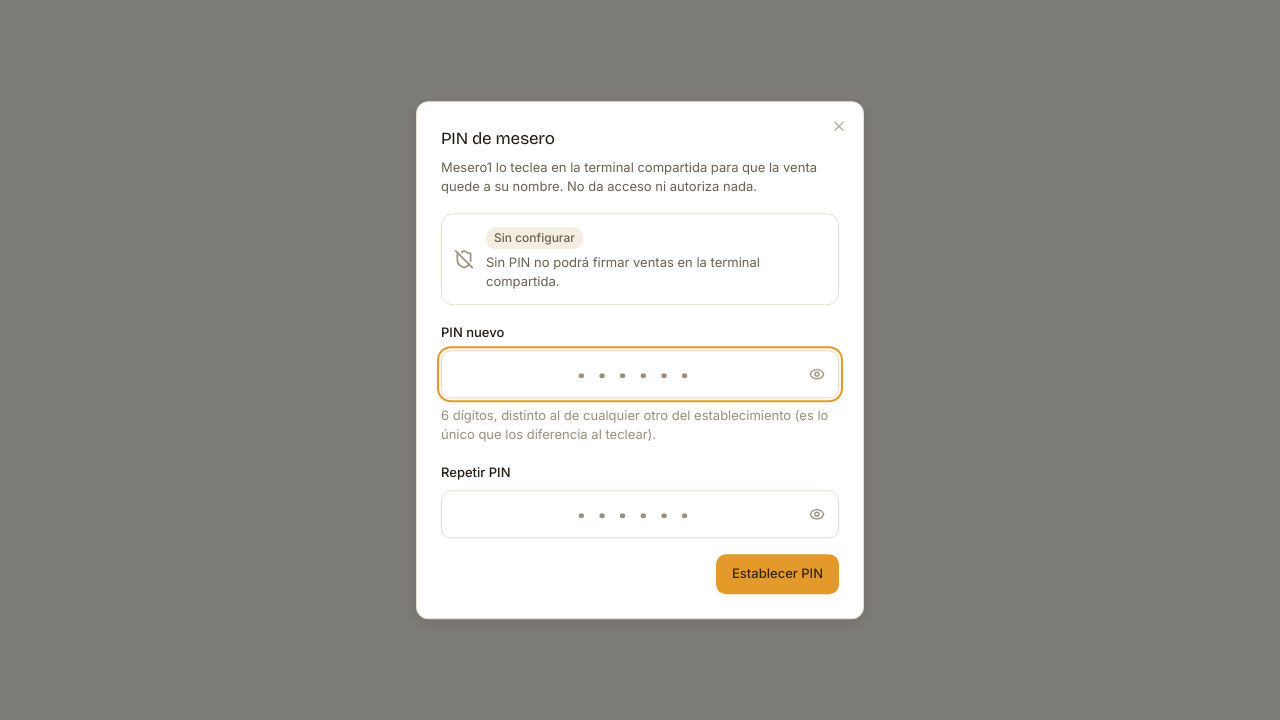
it: MeseroPinDialog › fija el PIN y limpia los campos
Expected: the text "Sin configurar" is shown, top-left (486, 227), bottom-right (583, 249)
Type "482913" into the password field labelled "PIN nuevo".
click(640, 374); type("482913")  # box top-left (441, 350), bottom-right (839, 398)
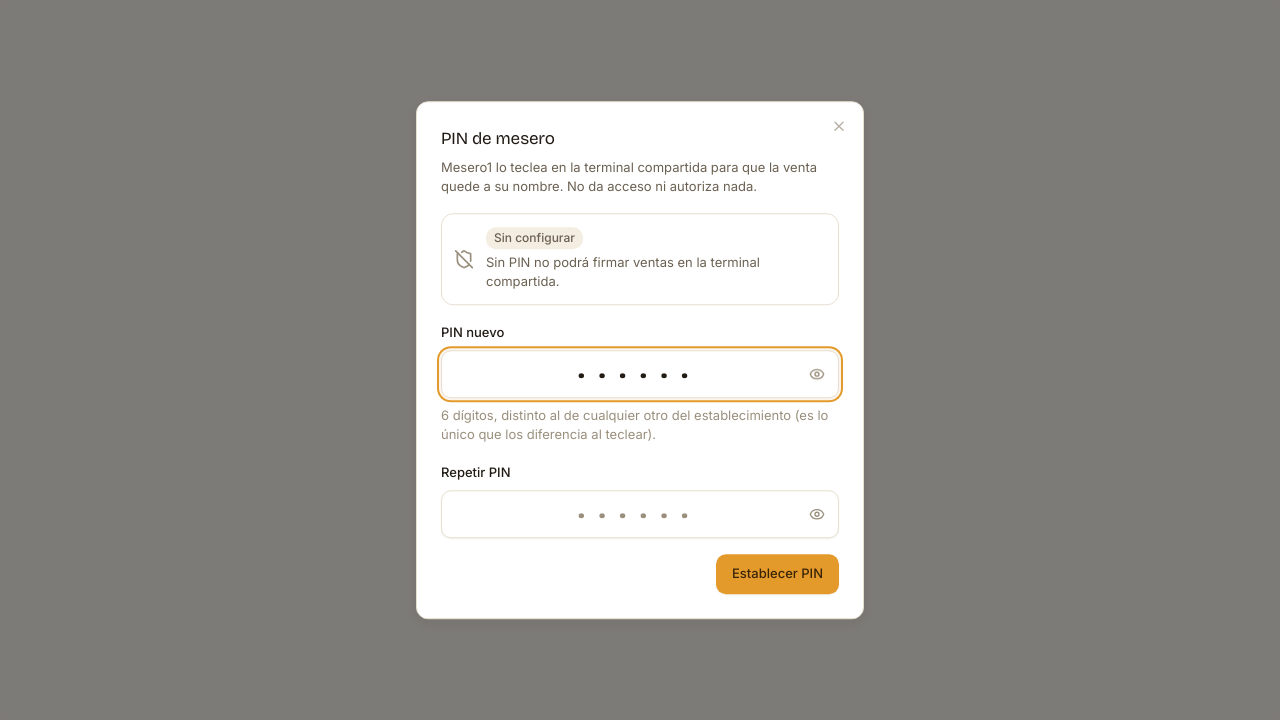
Type "482913" into the password field labelled "Repetir PIN".
click(640, 514); type("482913")  # box top-left (441, 490), bottom-right (839, 538)
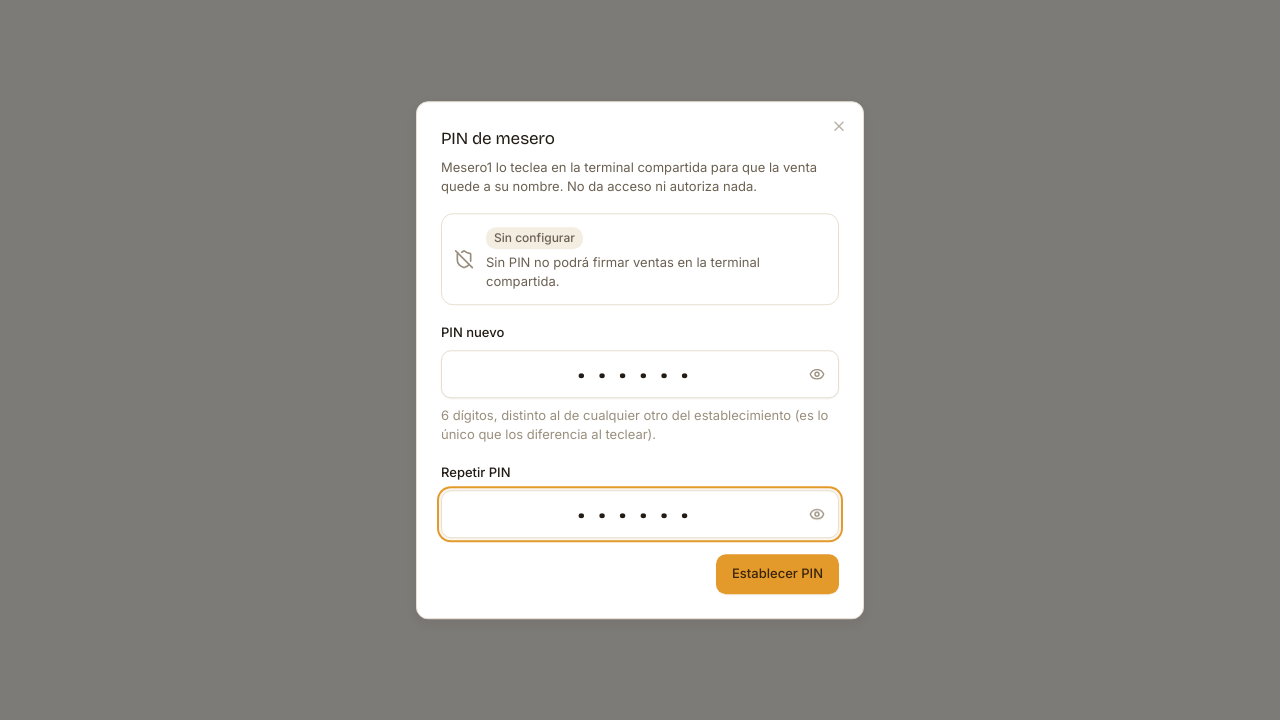
Click the button "Establecer PIN".
click(778, 574)  # box top-left (716, 554), bottom-right (839, 594)
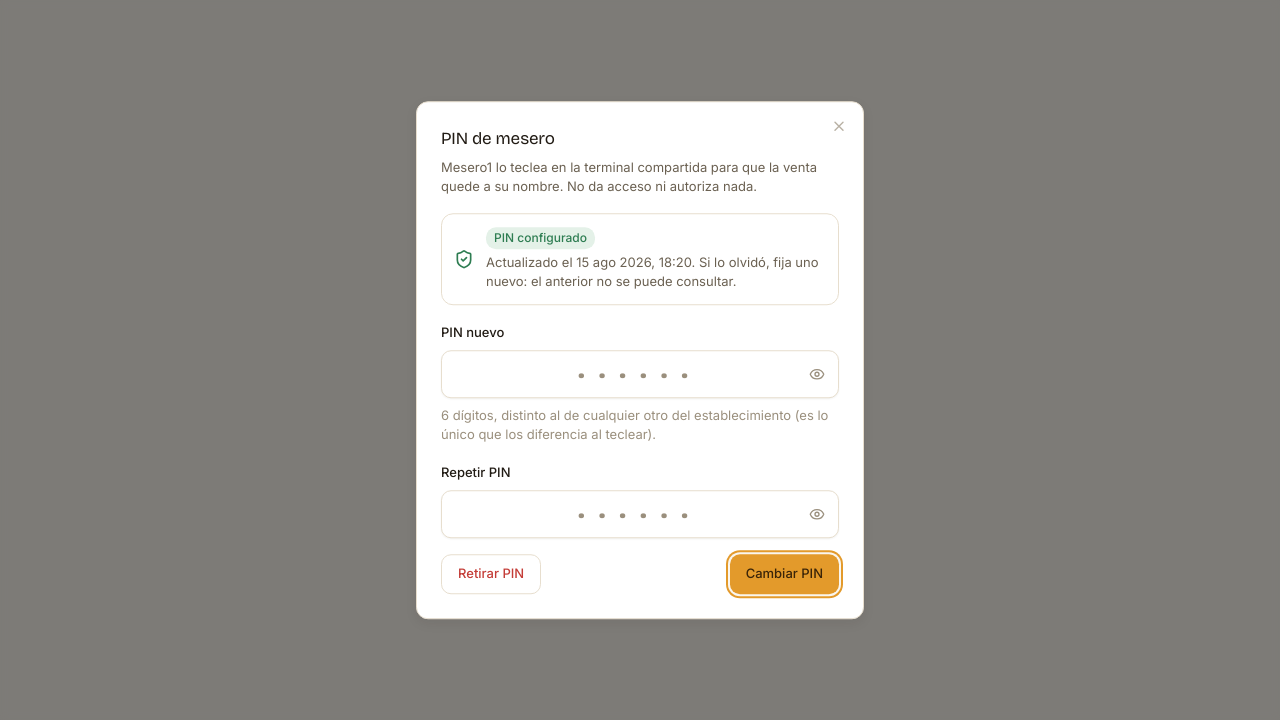
Result: the text "PIN configurado" is shown at top-left (486, 227), bottom-right (595, 249)
Result: the password field labelled "PIN nuevo" is empty at top-left (441, 350), bottom-right (839, 398)
